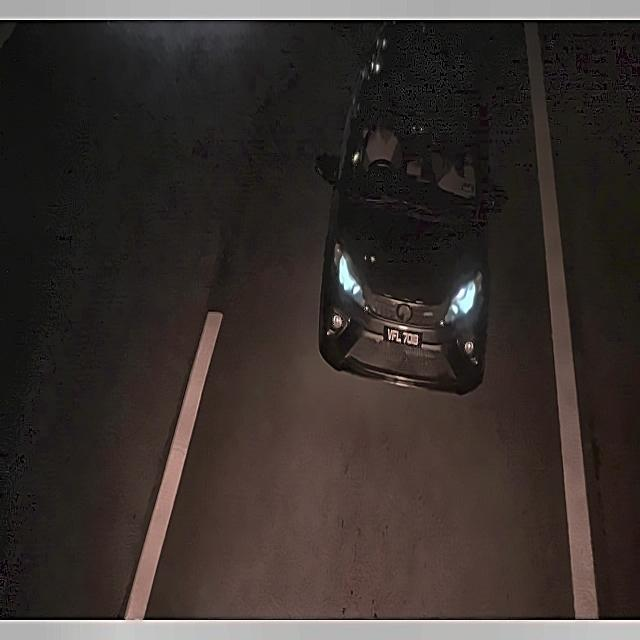car: (381, 319, 424, 355)
